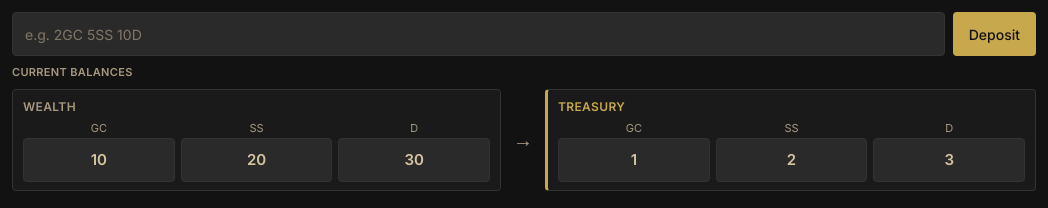
it: TransferControl preview (Req 6.2) › renders per-denomination resulting source & destination equal to transferFunds output
Type "2GC 5SS 10D" into the field named "amount".
click(478, 34); type("2GC 5SS 10D")  # box [12,12,945,56]
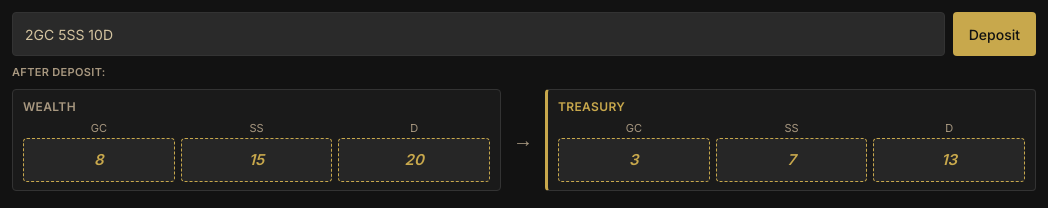
Now the button with test id "transfer-deposit-destination-gc" reads "3", box [558,138,710,182]
Now the button with test id "transfer-deposit-source-d" reads "20", box [338,138,490,182]
